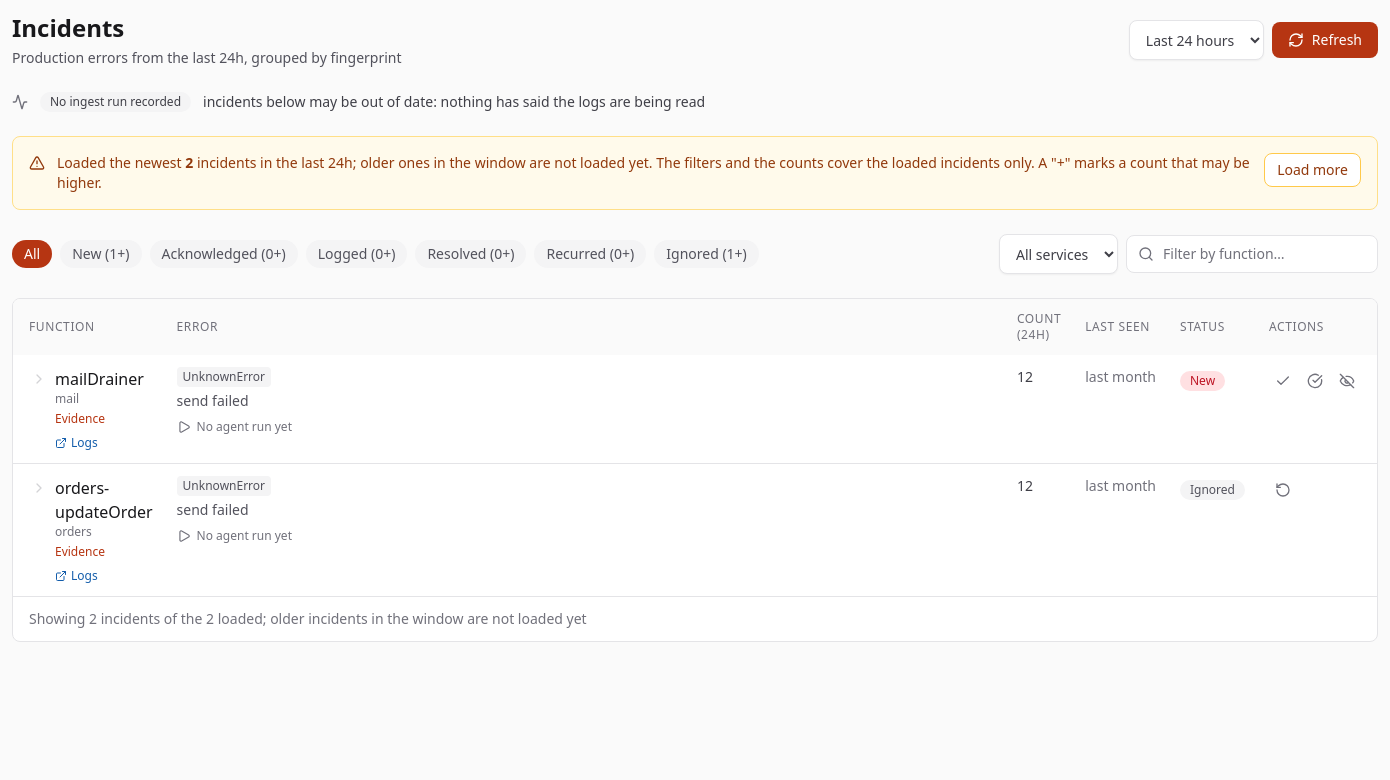
it: Incidents page › shows none of the last figures once a refetch fails (#356)
The width and height of the screenshot is (1390, 780).
Expected: the text "Showing 2 incidents" is shown, [13,596,1377,641]
Expected: the button "New (1+)" is shown, [60,240,142,268]
What coordinates should you click on to do the following:
click the button "Refresh"
I would click on:
 (1325, 40)
Its box is [1272,22,1378,58].
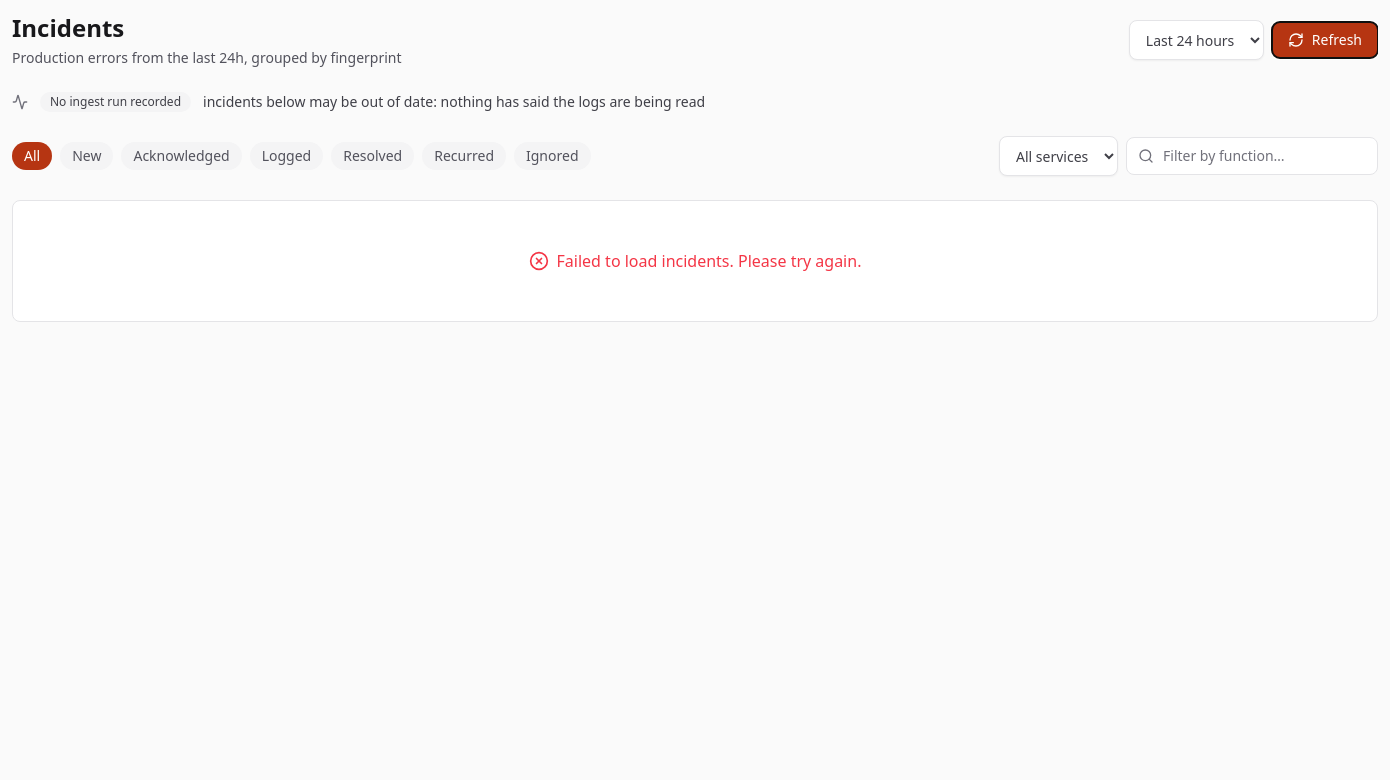
Expected: the message shows "Failed to load incidents", [556,250,861,272]
Expected: the text "older ones in the window are not loaded yet" is gone
Expected: the text "orders" is gone
